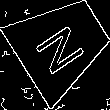N_NE: (31, 14, 92, 75)
